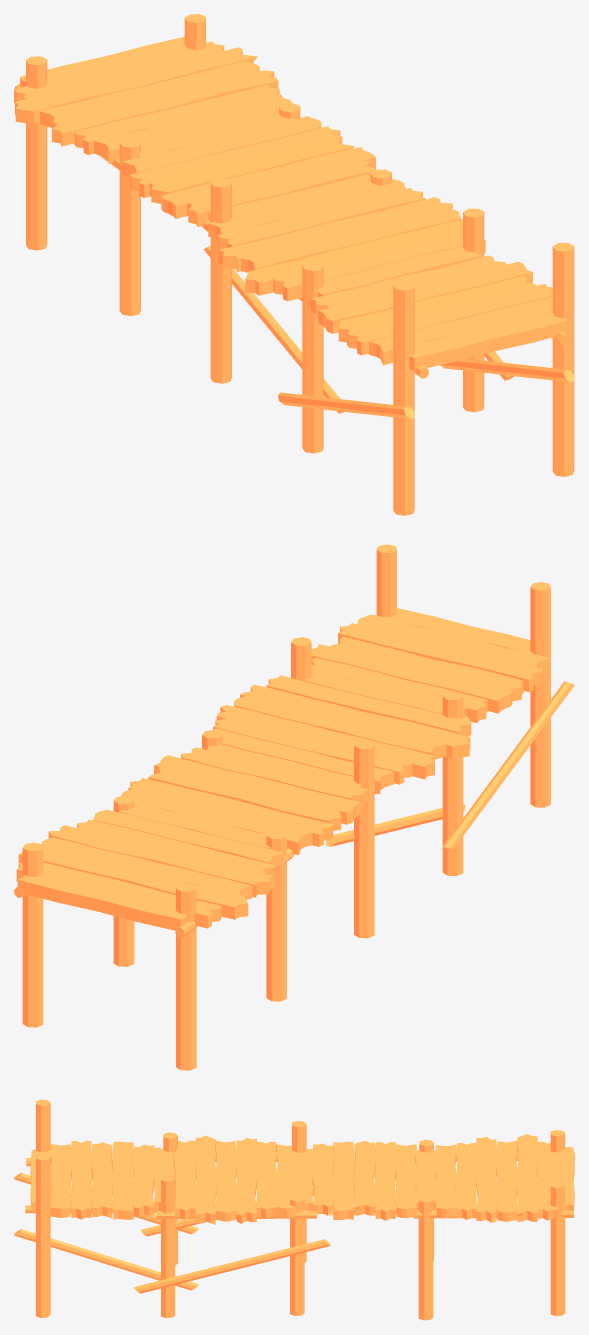
File: ponton.glb
The picture shows the model from 3 angles, top to bottom: view 1: azimuth 30°, elevation 25°; view 2: azimuth 150°, elevation 25°; view 3: azimuth 270°, elevation 25°; orthographic projection. The views are drawn at different scales.
Parts seen in each view (by area): view 1: Cylinder.001, Cylinder, Cube, Cube.024, Cube.022, Cylinder.003, Cylinder.002, Cube.016, Cylinder.005, Cylinder.004, Cube.018, Cube.004 (+26 smaller); view 2: Cube.026, Cylinder.001, Cylinder.003, Cylinder.006, Cylinder.005, Cube.022, Cube.002, Cube.024, Cube.004, Cube.015, Cube.016, Cube.014 (+26 smaller); view 3: Cylinder, Cylinder.006, Cylinder.007, Cylinder.009, Cube.024, Cube.015, Cube.022, Cylinder.013, Cube.017, Cube.016, Cube.004, Cube.009 (+29 smaller).
Boxes of the visible parts, left/top/right/bottom form: Cylinder.001: left=393, top=281, right=414, bottom=515; Cylinder: left=552, top=243, right=574, bottom=476; Cube: left=409, top=311, right=568, bottom=370; Cube.024: left=15, top=47, right=257, bottom=124; Cube.022: left=52, top=70, right=278, bottom=146; Cylinder.003: left=210, top=178, right=231, bottom=383; Cylinder.002: left=302, top=262, right=323, bottom=453; Cube.016: left=241, top=208, right=460, bottom=272; Cylinder.005: left=26, top=56, right=47, bottom=250; Cylinder.004: left=119, top=139, right=140, bottom=316; Cube.018: left=217, top=188, right=425, bottom=249; Cube.004: left=318, top=261, right=532, bottom=333; Cube.026: left=17, top=872, right=187, bottom=930; Cylinder.001: left=530, top=582, right=550, bottom=807; Cylinder.003: left=354, top=740, right=374, bottom=938; Cylinder.006: left=22, top=842, right=43, bottom=1027; Cylinder.005: left=176, top=883, right=196, bottom=1070; Cube.022: left=48, top=825, right=274, bottom=897; Cube.002: left=338, top=623, right=542, bottom=691; Cube.024: left=18, top=847, right=248, bottom=919; Cube.004: left=311, top=644, right=512, bottom=713; Cube.015: left=240, top=684, right=470, bottom=758; Cube.016: left=234, top=695, right=446, bottom=759; Cube.014: left=266, top=675, right=471, bottom=736; Cylinder: left=36, top=1154, right=50, bottom=1317; Cylinder.006: left=550, top=1182, right=565, bottom=1316; Cylinder.007: left=418, top=1196, right=433, bottom=1320; Cylinder.009: left=161, top=1175, right=175, bottom=1318; Cube.024: left=516, top=1134, right=538, bottom=1221; Cube.015: left=194, top=1135, right=215, bottom=1224; Cube.022: left=476, top=1136, right=498, bottom=1222; Cylinder.013: left=134, top=1239, right=330, bottom=1293; Cube.017: left=236, top=1138, right=256, bottom=1223; Cube.016: left=215, top=1140, right=236, bottom=1221; Cube.004: left=112, top=1141, right=133, bottom=1219; Cube.009: left=333, top=1141, right=354, bottom=1219.
Bounding box in the file's own units: 445 × 414 × 1310.
